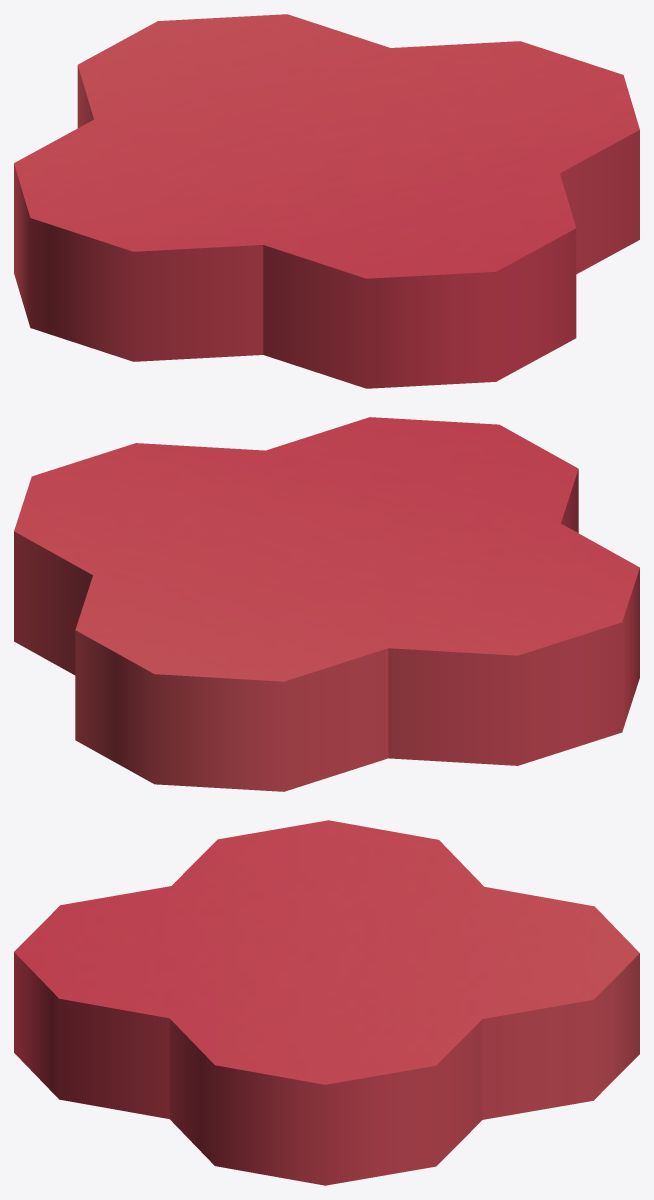
File: SM_Shape_Flower__01.fbx
3 renders of one model, top to bottom at view 1: azimuth 30°, elevation 25°; view 2: azimuth 150°, elevation 25°; view 3: azimuth 270°, elevation 25°, orthographic. The views are drawn at different scales.
Parts seen in each view (by area): view 1: SM_Shape_Flower__01; view 2: SM_Shape_Flower__01; view 3: SM_Shape_Flower__01.
Boxes of the visible parts, bbox=[...] form: SM_Shape_Flower__01: bbox=[14, 14, 639, 388]; SM_Shape_Flower__01: bbox=[14, 417, 639, 791]; SM_Shape_Flower__01: bbox=[14, 820, 639, 1185].
Size of the model in its own units: 7.87 by 1.4 by 7.87.
